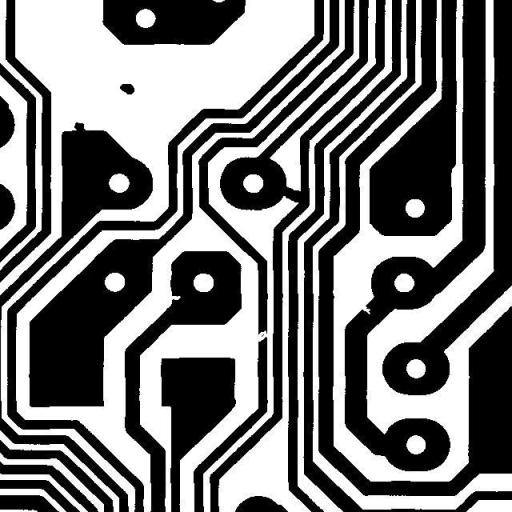copper: (112, 76, 142, 102)
mousebite: (352, 296, 378, 322), (162, 288, 188, 307)
open: (246, 322, 277, 350)
short: (269, 178, 312, 210)
spur: (66, 114, 93, 142)
